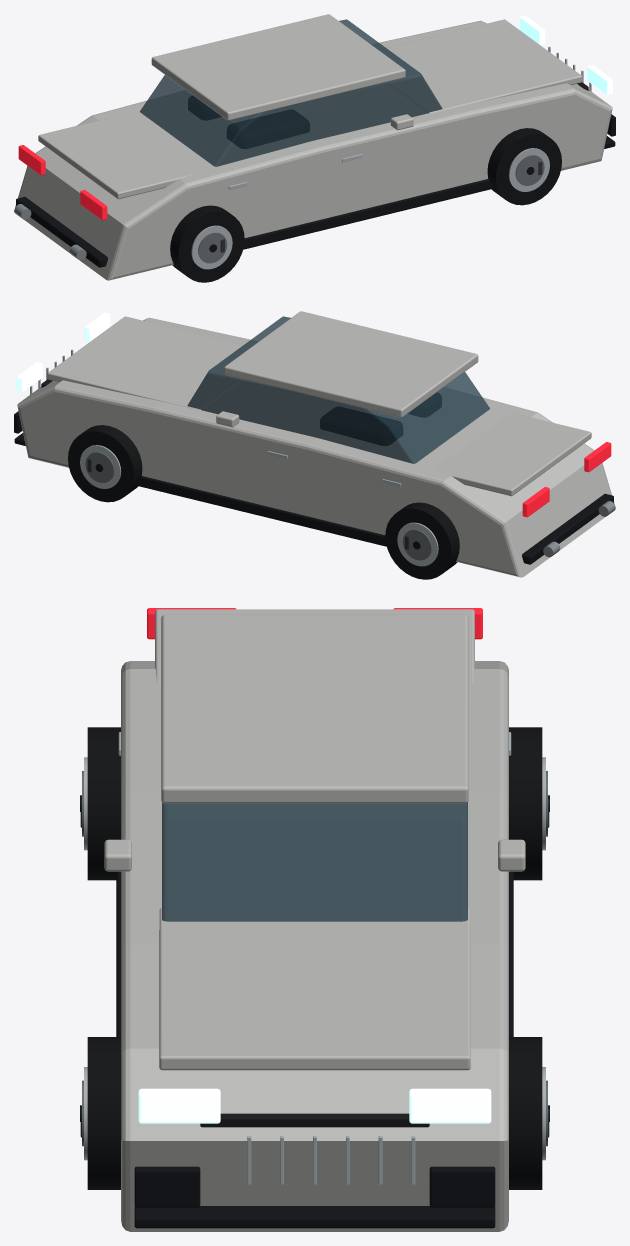
Rendered from rr_silver_seraph.glb.
3 renders of one model, top to bottom at view 1: azimuth 30°, elevation 25°; view 2: azimuth 150°, elevation 25°; view 3: azimuth 270°, elevation 25°, orthographic. The views are drawn at different scales.
Parts seen in each view (by area): view 1: sculpted_body, roof, glasshouse, hood_center, rear_deck, rear_right_wheel_tire, front_right_wheel_tire, side_skirt_1, seat_1, rear_diffuser, rear_right_wheel_rim, front_right_wheel_rim (+7 smaller); view 2: sculpted_body, roof, glasshouse, hood_center, rear_deck, rear_left_wheel_tire, front_left_wheel_tire, side_skirt_-1, seat_-1, rear_diffuser, rear_left_wheel_rim, front_left_wheel_rim (+7 smaller); view 3: sculpted_body, roof, hood_center, glasshouse, front_splitter, front_left_wheel_tire, front_right_wheel_tire, rear_left_wheel_tire, rear_right_wheel_tire, front_grille, headlight_left, headlight_right (+7 smaller).
Part boxes in pixels (x1,y1,x2,y2): sculpted_body: (14,20,612,280); roof: (151,14,405,120); glasshouse: (140,19,442,166); hood_center: (379,19,582,113); rear_deck: (38,116,196,199); rear_right_wheel_tire: (170,205,244,282); front_right_wheel_tire: (487,128,561,205); side_skirt_1: (243,179,492,249); seat_1: (227,110,309,148); rear_diffuser: (16,196,107,267); rear_right_wheel_rim: (191,225,232,269); front_right_wheel_rim: (508,148,549,191); sculpted_body: (17,317,615,577); roof: (224,311,478,417); glasshouse: (187,316,489,463); hood_center: (47,316,250,410); rear_deck: (433,413,591,496); rear_left_wheel_tire: (385,502,459,579); front_left_wheel_tire: (68,425,142,502); side_skirt_-1: (137,476,386,546); seat_-1: (320,407,402,445); rear_diffuser: (522,493,613,564); rear_left_wheel_rim: (397,522,438,566); front_left_wheel_rim: (80,445,121,488); sculpted_body: (121,661,508,1231); roof: (161,614,468,803); hood_center: (159,908,470,1070); glasshouse: (162,802,467,921); front_splitter: (134,1206,495,1228); front_left_wheel_tire: (509,1037,542,1189); front_right_wheel_tire: (87,1037,120,1189); rear_left_wheel_tire: (509,727,542,880); rear_right_wheel_tire: (87,727,120,880); front_grille: (200,1113,429,1127); headlight_left: (409,1088,491,1123); headlight_right: (138,1088,220,1123).
Size of the model in its own units: 5.76 by 1.52 by 2.21.
